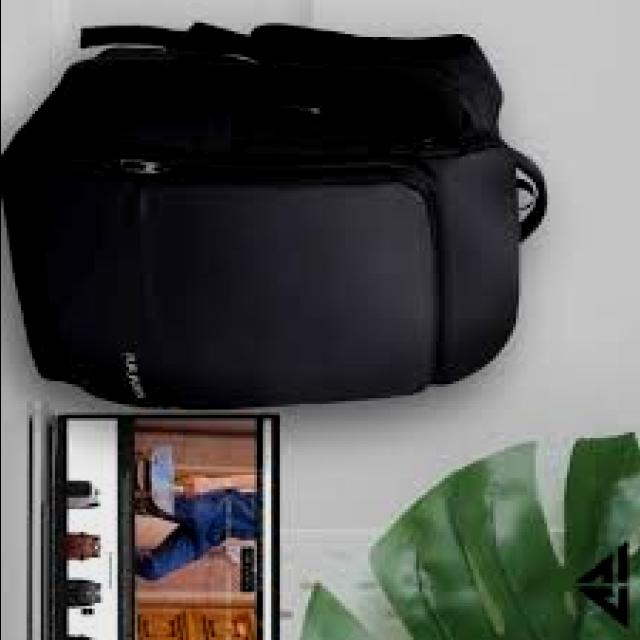backpack: (4, 21, 550, 411)
